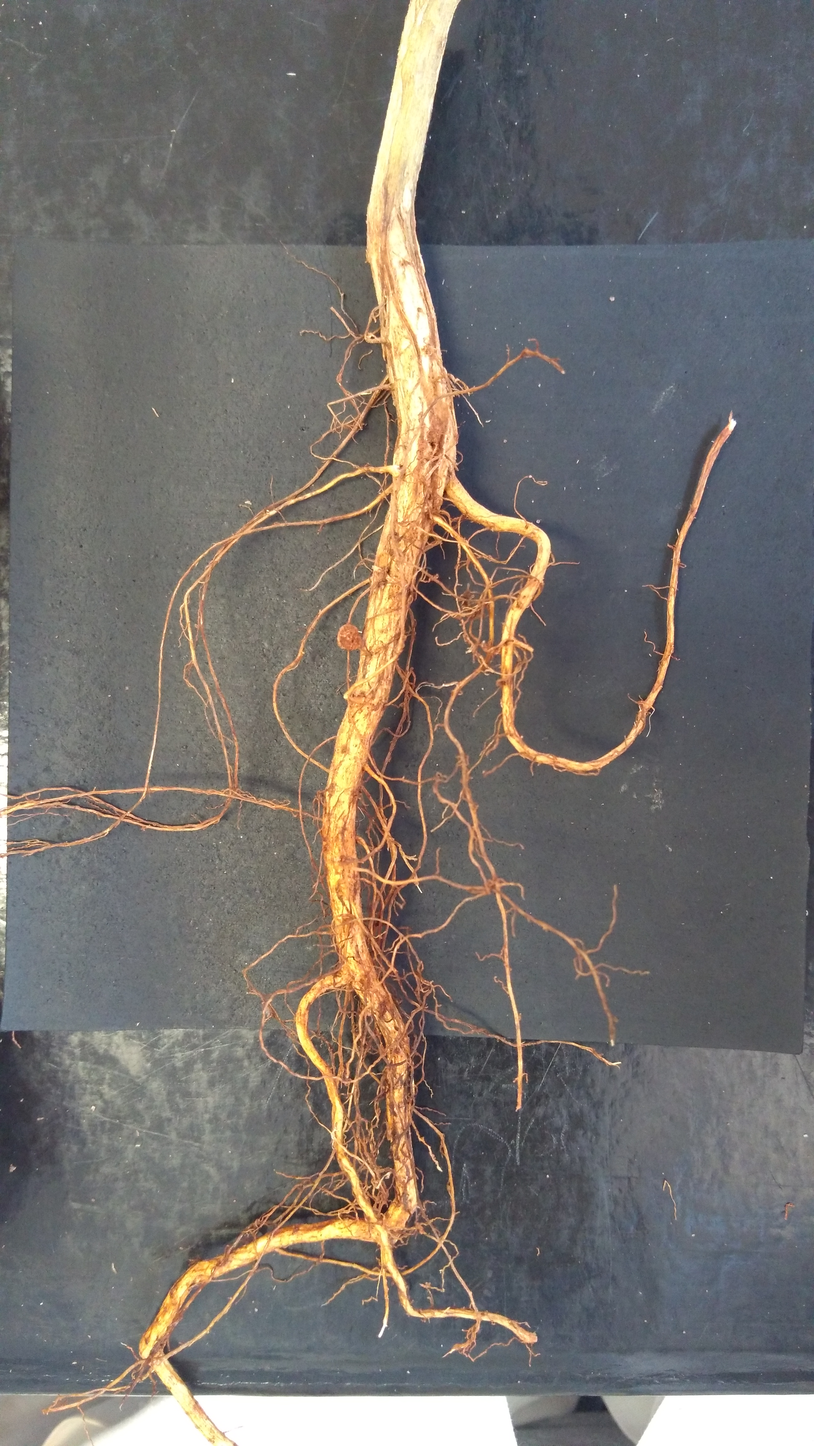nodule: (458, 588, 483, 619), (336, 623, 361, 651), (370, 1174, 385, 1189), (608, 296, 615, 302), (425, 1281, 431, 1287), (536, 519, 540, 523)
